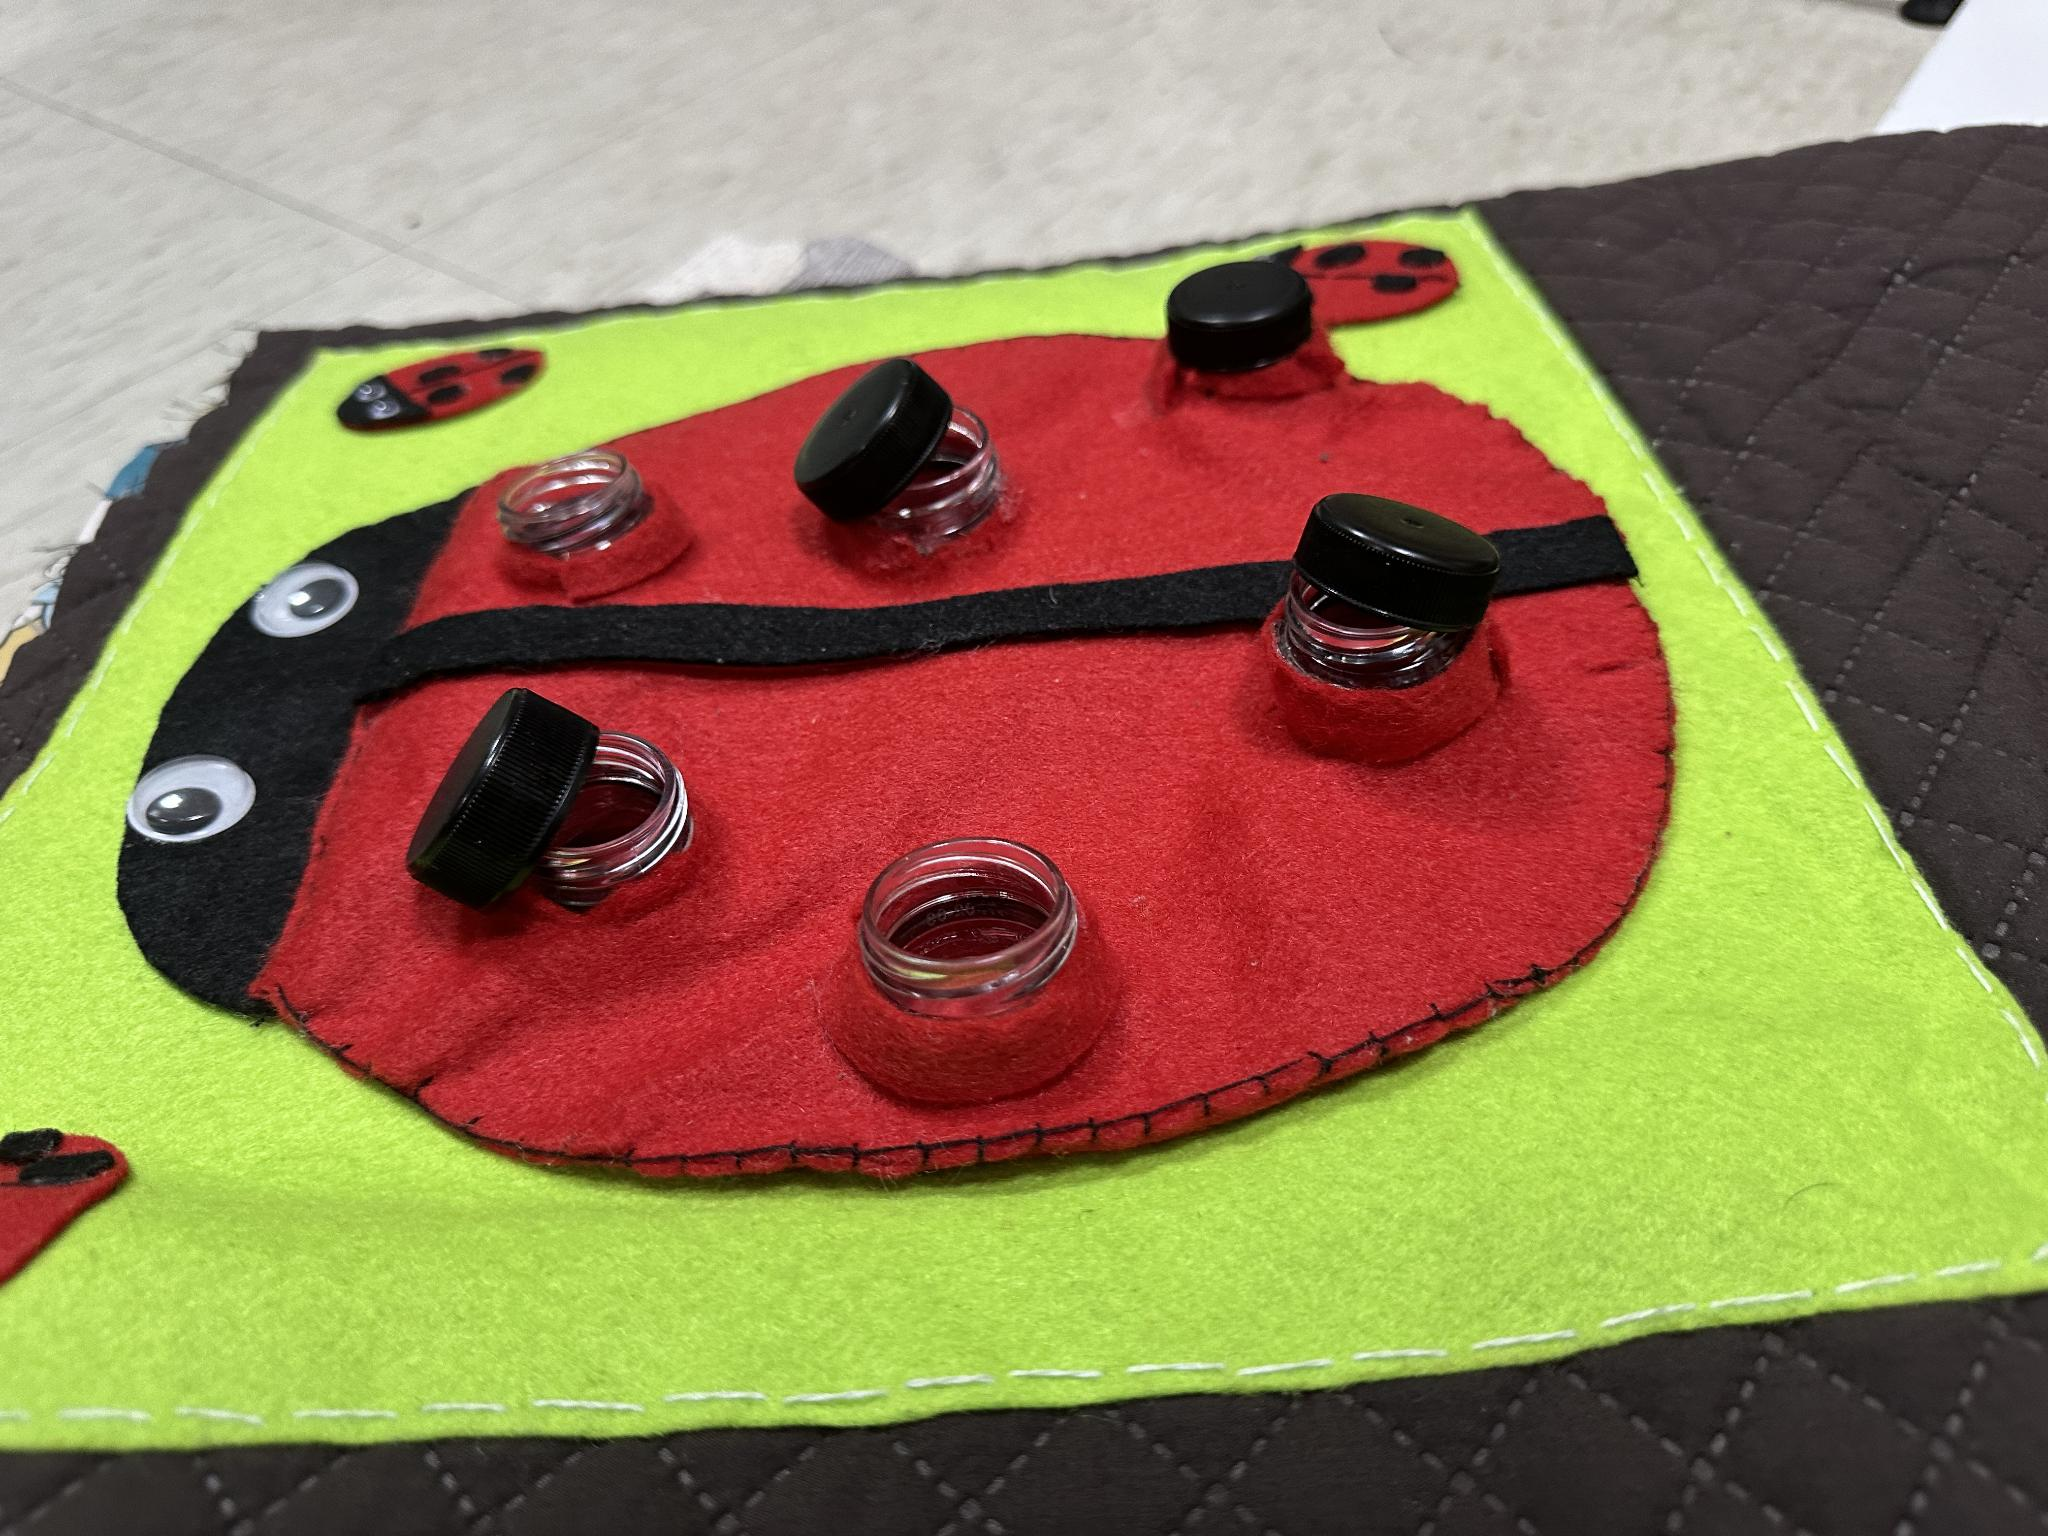cap_ng: (398, 681, 729, 954), (1255, 476, 1517, 774), (772, 339, 1040, 571)
cap_ok: (1156, 263, 1358, 426)
